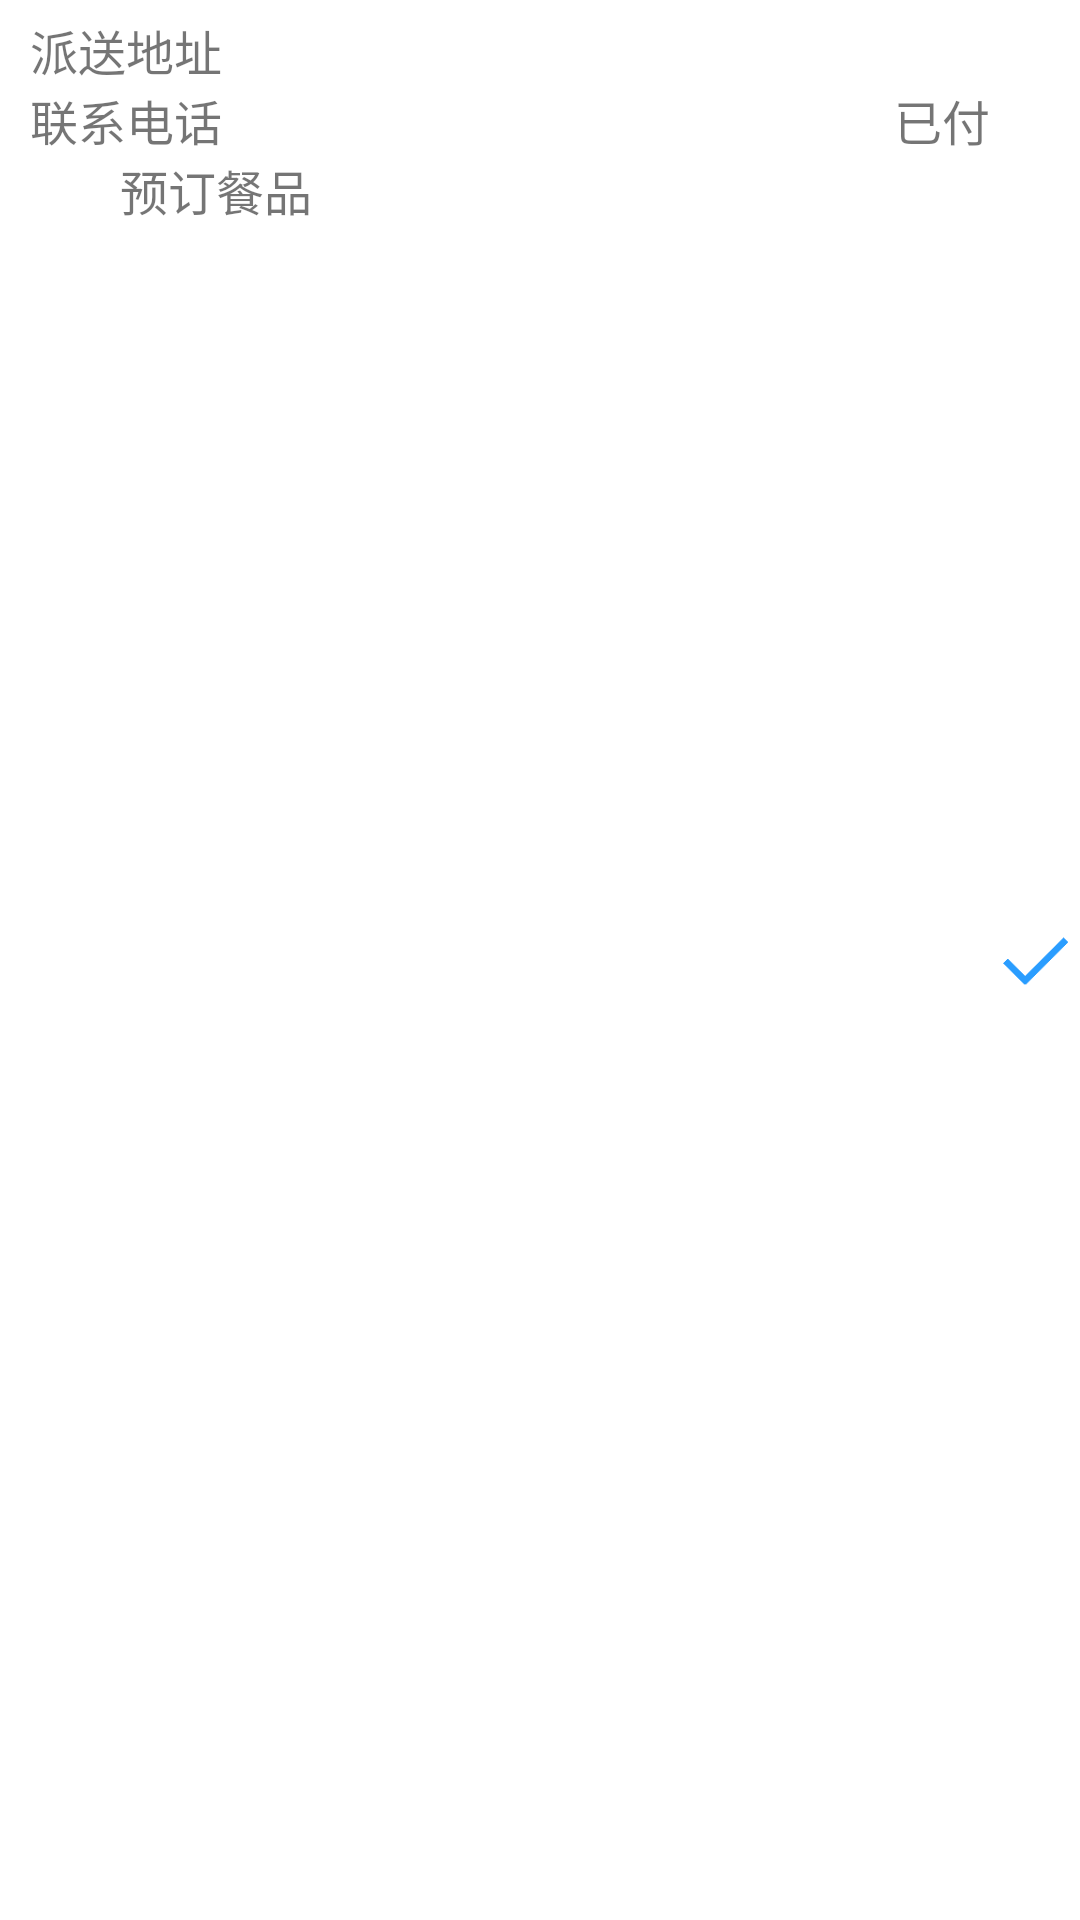

Screen size 1080 × 1920. Icon name, then its center in pixels as point (x, y):
check mark for order: point (1035, 961)
